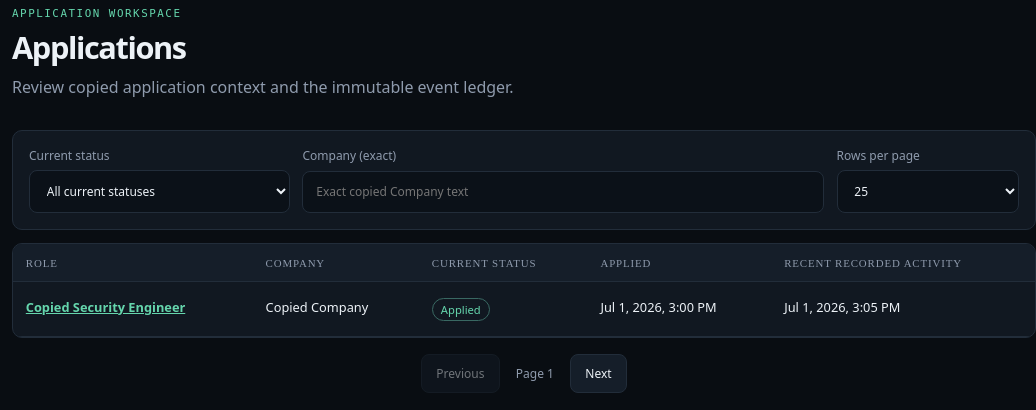
Scenario: Applications routes and list › requests 25 by default and forwards opaque Next cursors with a Previous stack
Expected: the link "Copied Security Engineer" is shown, [26,298,185,316]
Click the button "Next" at [599, 374], box [570,354,627,393]
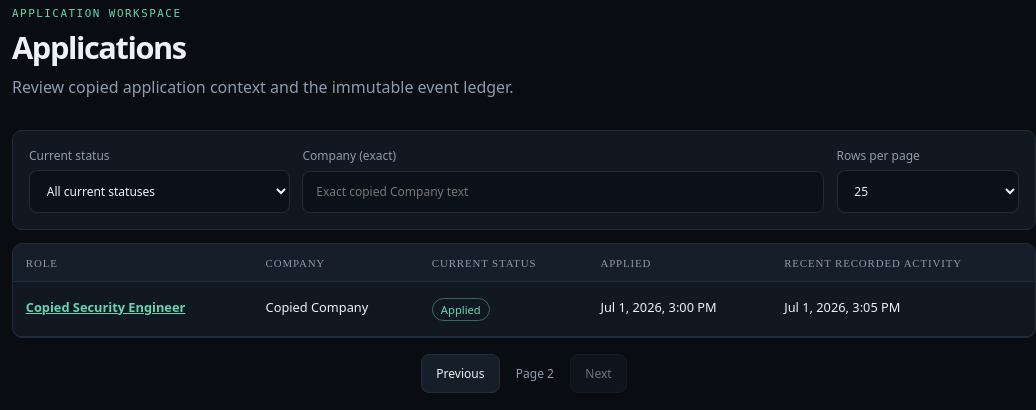
Result: the text "Page 2" is shown at [516,365,554,382]
Click the button "Previous" at [460, 374], box [421,354,500,393]
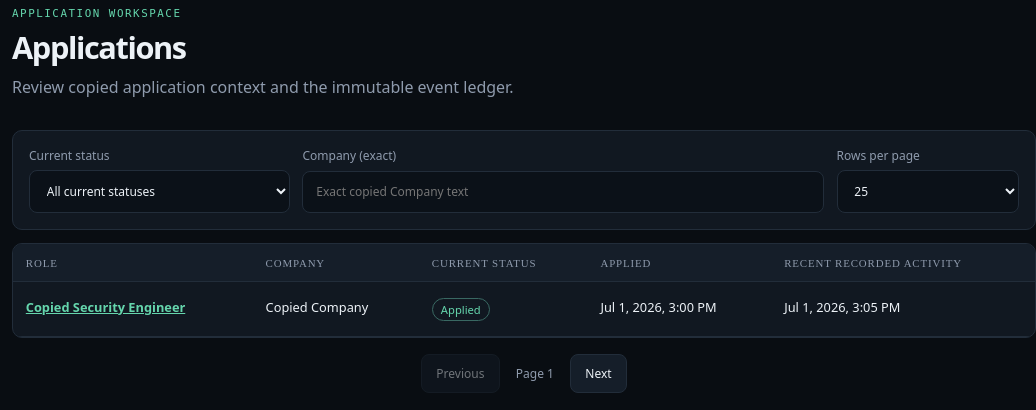
Result: the text "Page 1" is shown at [516,365,554,382]
